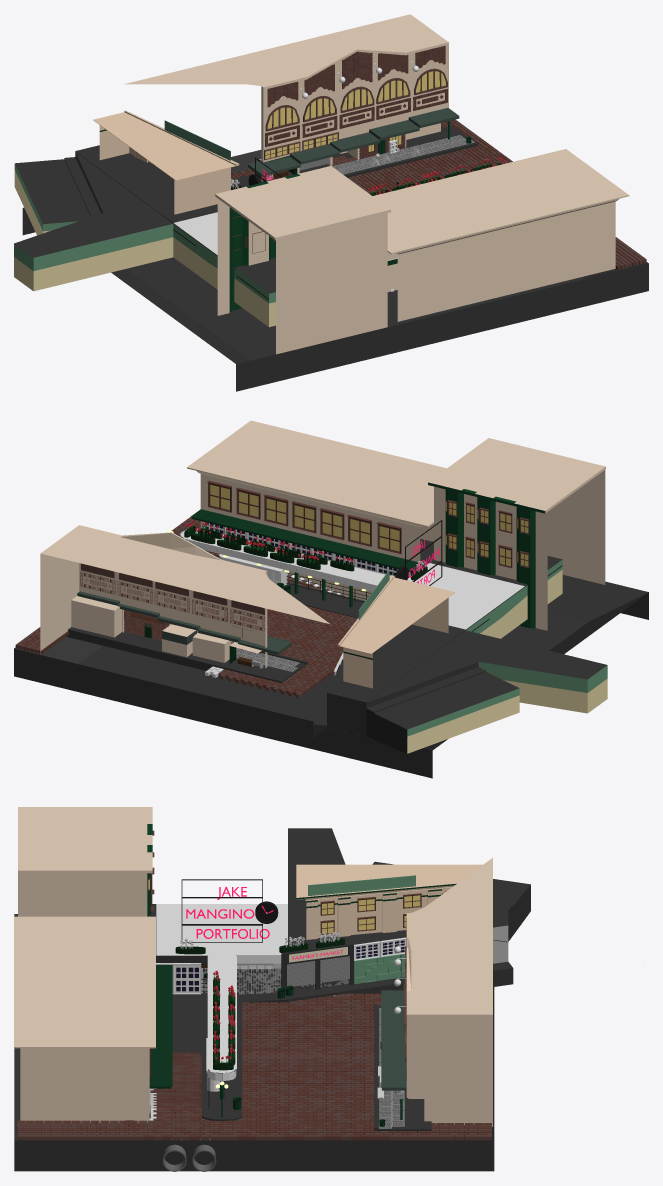
The model's file is pike (1) (1).glb.
3 views of the same model, one above another, from view 1: azimuth 30°, elevation 25°; view 2: azimuth 150°, elevation 25°; view 3: azimuth 270°, elevation 25° (orthographic). The views are drawn at different scales.
Visible parts, largest first — view 1: building1test, building2, mainBuilding, platform, building4, building3, building4TopWindows, building4Balcony, brickFloorFron, garage, building4BricksRight, mainBuildingCeiling (+8 smaller); view 2: mainBuilding, platform, building4, building2, building1test, building3, mainBuildingCeiling, brickFloorBack, building1TopWindows, garage, building1Balcony, building2Windows (+12 smaller); view 3: building1test, building4, platform, building2, mainBuilding, brickFloorFron, brickFloorBack, mainBuildingCeiling, edgeBricks, building3, building4Balcony, building1Balcony (+13 smaller).
Boxes of the visible parts, x1,y1,x2,y2 form: building1test: (373, 149, 629, 321); building2: (215, 166, 390, 354); mainBuilding: (14, 145, 275, 327); platform: (22, 150, 648, 391); building4: (124, 14, 448, 182); building3: (93, 110, 239, 214); building4TopWindows: (265, 68, 447, 131); building4Balcony: (248, 108, 459, 176); brickFloorFron: (358, 141, 512, 191); garage: (231, 125, 477, 186); building4BricksRight: (339, 88, 447, 128); mainBuildingCeiling: (174, 212, 217, 254); mainBuilding: (180, 529, 607, 753); platform: (14, 539, 648, 778); building4: (40, 525, 330, 668); building2: (428, 438, 605, 630); building1test: (187, 420, 446, 600); building3: (338, 575, 455, 688); mainBuildingCeiling: (180, 528, 524, 629); brickFloorBack: (218, 606, 357, 698); building1TopWindows: (207, 480, 401, 553); garage: (66, 618, 307, 682); building1Balcony: (190, 509, 425, 572); building2Windows: (445, 500, 529, 568); building1test: (14, 916, 155, 1122); building4: (406, 858, 492, 1126); platform: (14, 914, 494, 1171); building2: (18, 807, 152, 916); mainBuilding: (152, 828, 530, 1122); brickFloorFron: (223, 1065, 379, 1140); brickFloorBack: (242, 993, 381, 1067); mainBuildingCeiling: (156, 904, 287, 1080); edgeBricks: (17, 1052, 491, 1140); building3: (296, 864, 482, 939); building4Balcony: (381, 990, 406, 1090); building1Balcony: (149, 965, 172, 1118).
Size of the model in its own units: 57.06 by 15.97 by 55.34.
